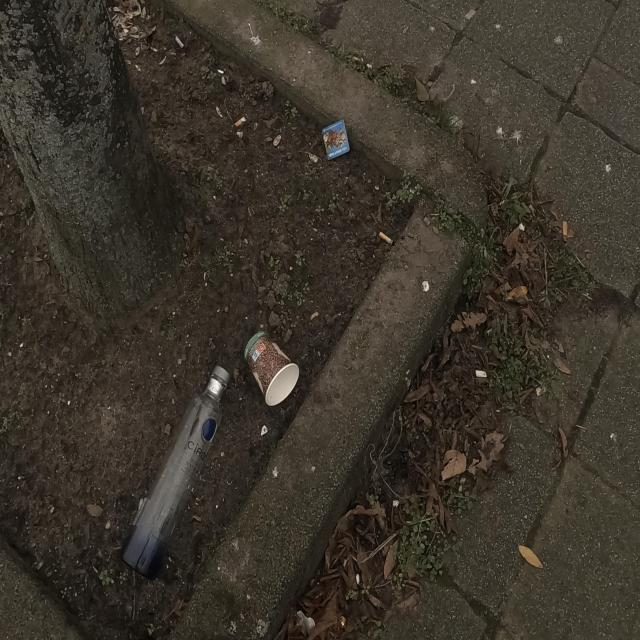Cup: (243, 322, 300, 412)
